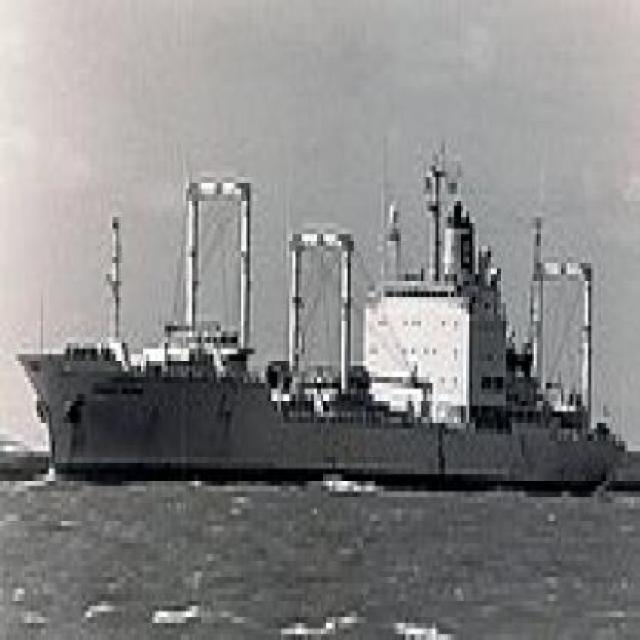container: (13, 92, 632, 521)
